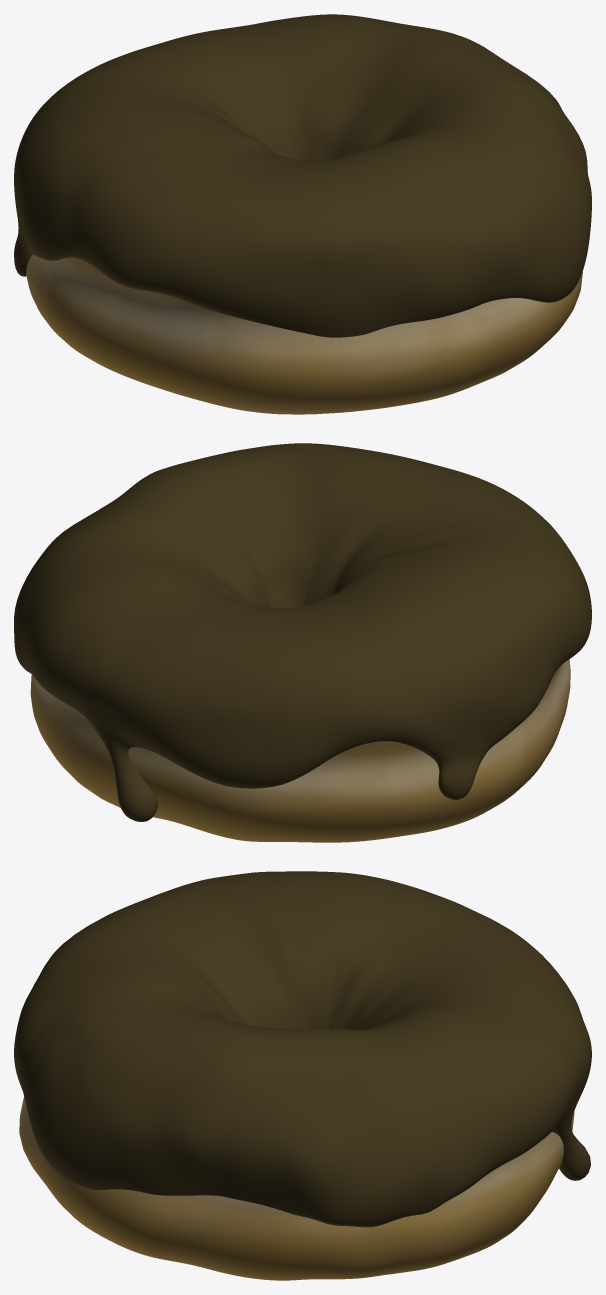
File: donut.gltf
The picture shows the model from 3 angles, top to bottom: view 1: azimuth 30°, elevation 25°; view 2: azimuth 150°, elevation 25°; view 3: azimuth 270°, elevation 25°; orthographic projection. The views are drawn at different scales.
Parts seen in each view (by area): view 1: Torus010, Torus010_1; view 2: Torus010, Torus010_1; view 3: Torus010, Torus010_1.
Boxes of the visible parts, x1=… form: Torus010: x1=14, y1=14, x2=591, y2=337; Torus010_1: x1=26, y1=254, x2=582, y2=414; Torus010: x1=14, y1=443, x2=591, y2=821; Torus010_1: x1=30, y1=659, x2=570, y2=842; Torus010: x1=14, y1=871, x2=591, y2=1227; Torus010_1: x1=19, y1=1096, x2=574, y2=1280.
Bounding box in the file's own units: 3.27 × 1.47 × 3.22.
Materials: 2 (1 with a texture image).
